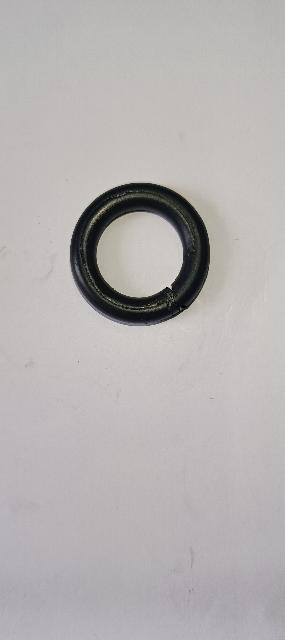crack: (162, 278, 188, 321)
scratch: (77, 187, 197, 313)
